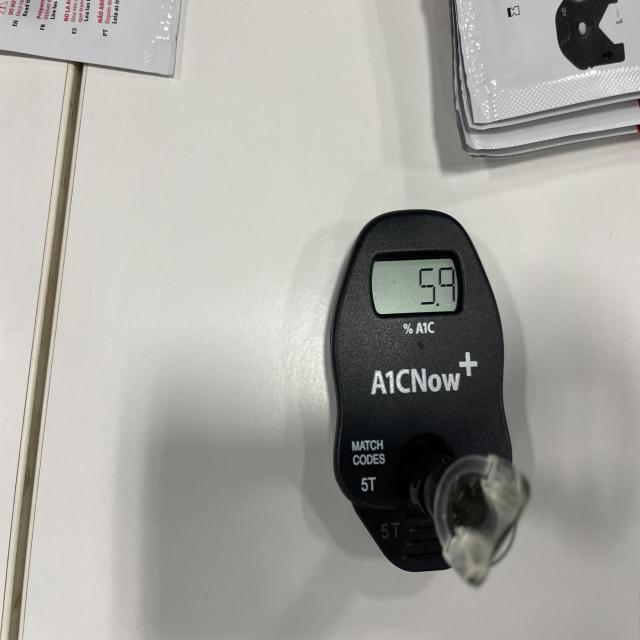hba1c: (323, 210, 527, 585)
